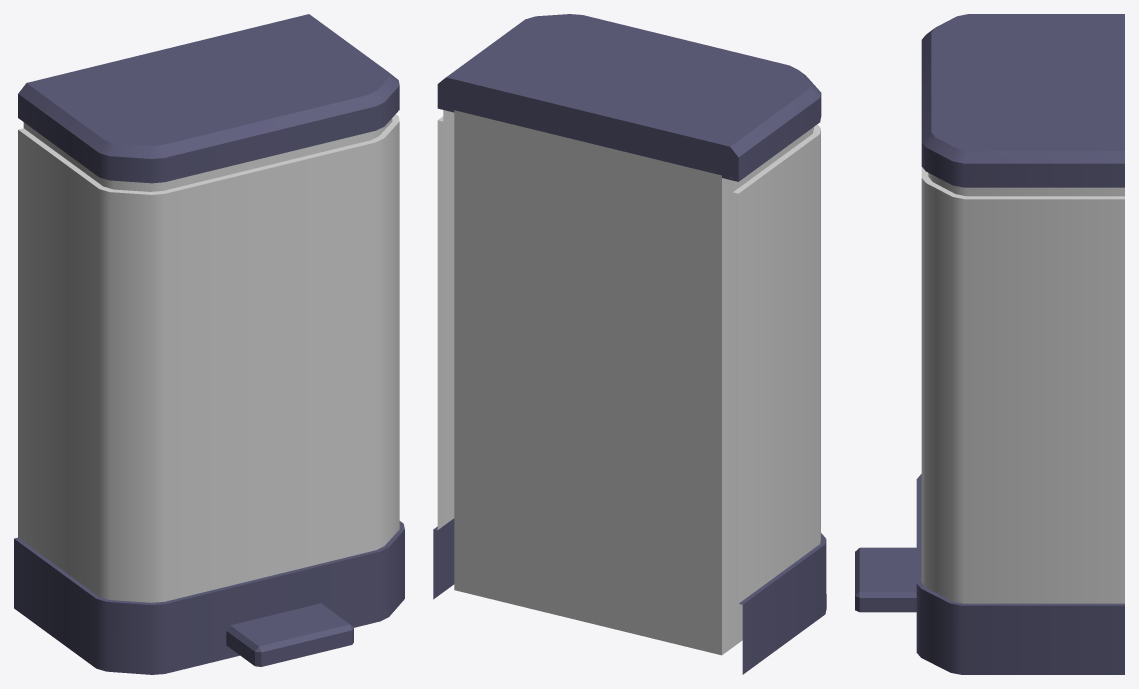
File: propsMaison_poubelle.fbx
3 views of the same model, side by side, from view 1: azimuth 30°, elevation 25°; view 2: azimuth 150°, elevation 25°; view 3: azimuth 270°, elevation 25° (orthographic).
Visible parts, largest first — view 1: poubelle, poubelleCouvercle; view 2: poubelle, poubelleCouvercle; view 3: poubelle, poubelleCouvercle.
Part boxes in pixels (x1,y1,x2,y2): poubelle: (14,114,404,674); poubelleCouvercle: (18,14,399,183); poubelle: (433,110,826,674); poubelleCouvercle: (437,14,821,181); poubelle: (855,167,1124,674); poubelleCouvercle: (921,14,1124,187).
Size of the model in its own units: 106 by 172 by 81.2.
